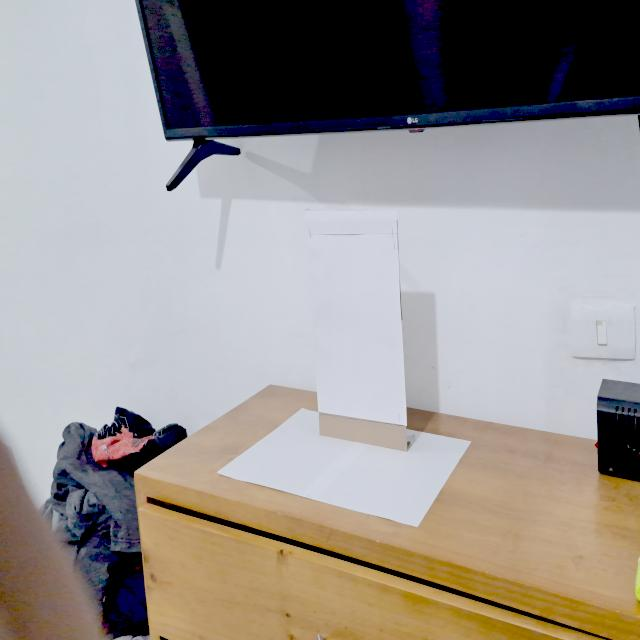wall: (306, 210, 414, 452)
